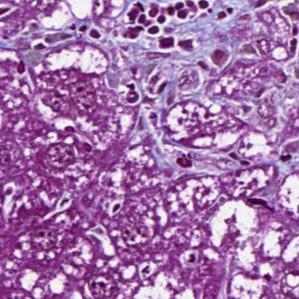ballooning: (163, 98, 247, 153), (39, 40, 110, 78)
